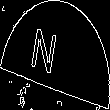N_S: (39, 26, 71, 84)
